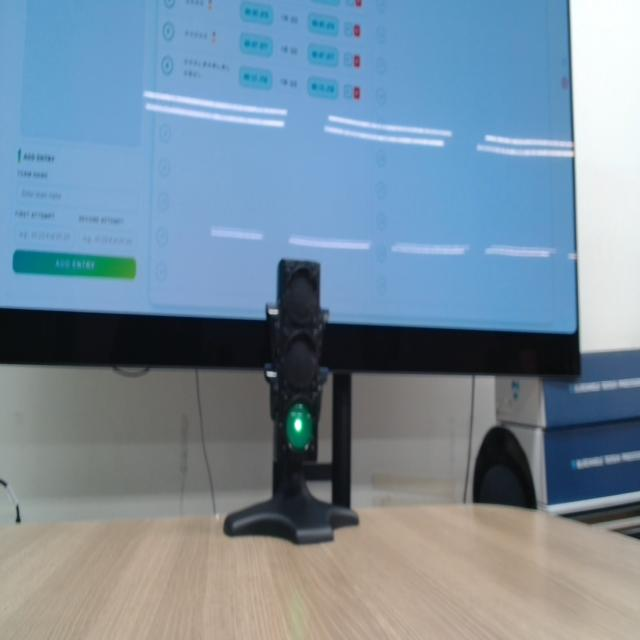green_light: (286, 403, 313, 452)
